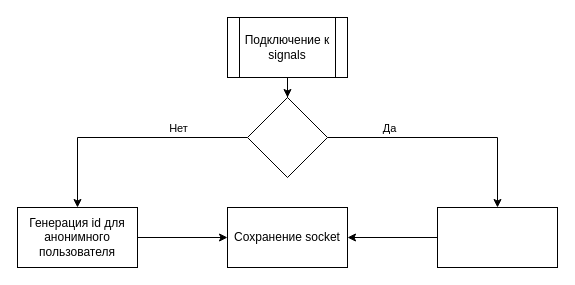
Some shapes in this 575 by 285 pixel diagram are drawn without their labels. The shapes that lost their labels are listed below. From the top down, each one's centre as x and y in pixels, then its label:
(x=287, y=137): Авторизо ванный?
(x=497, y=237): Получение id из token
